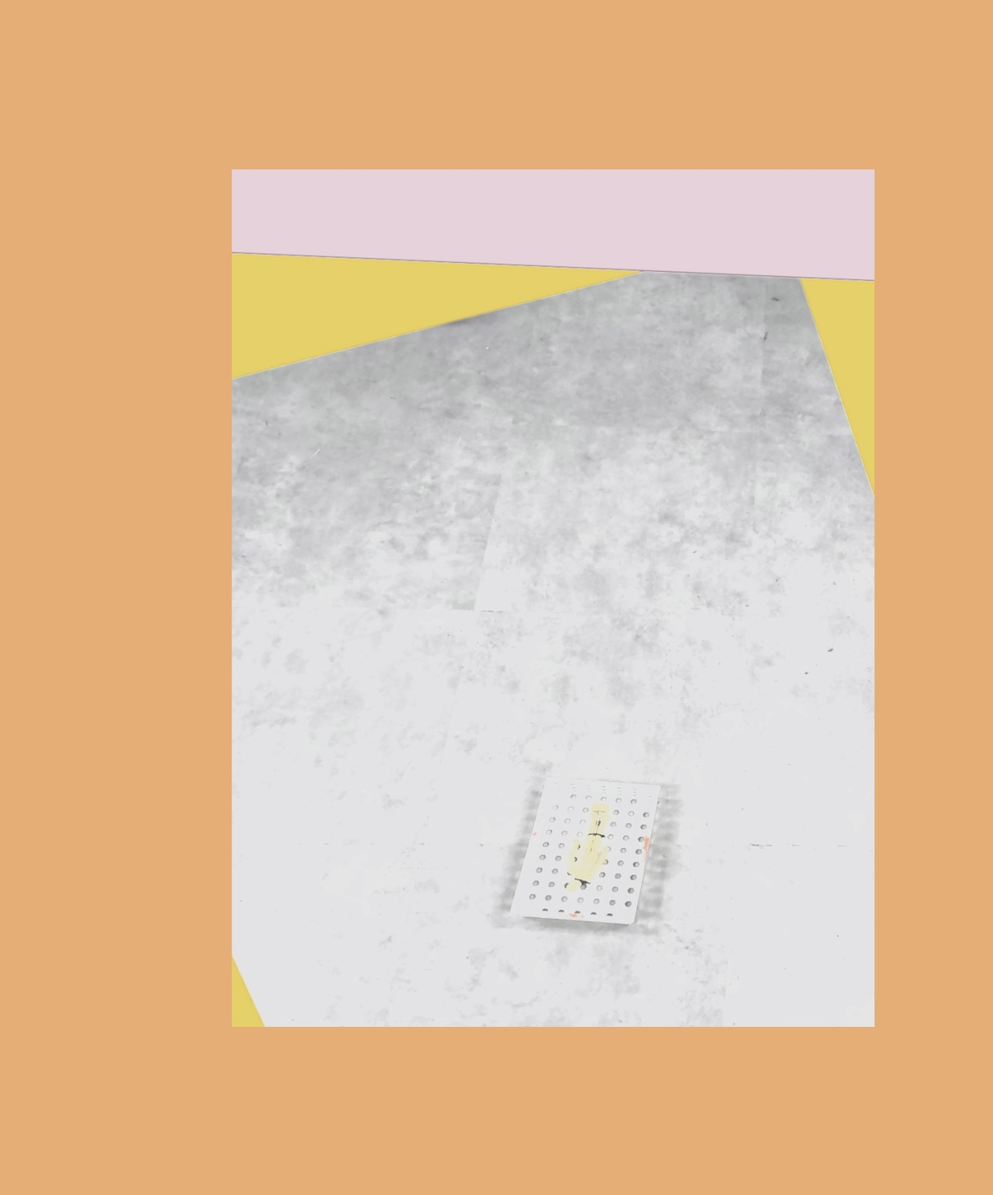basket: (504, 759, 666, 937)
mannequin: (562, 792, 617, 904)
